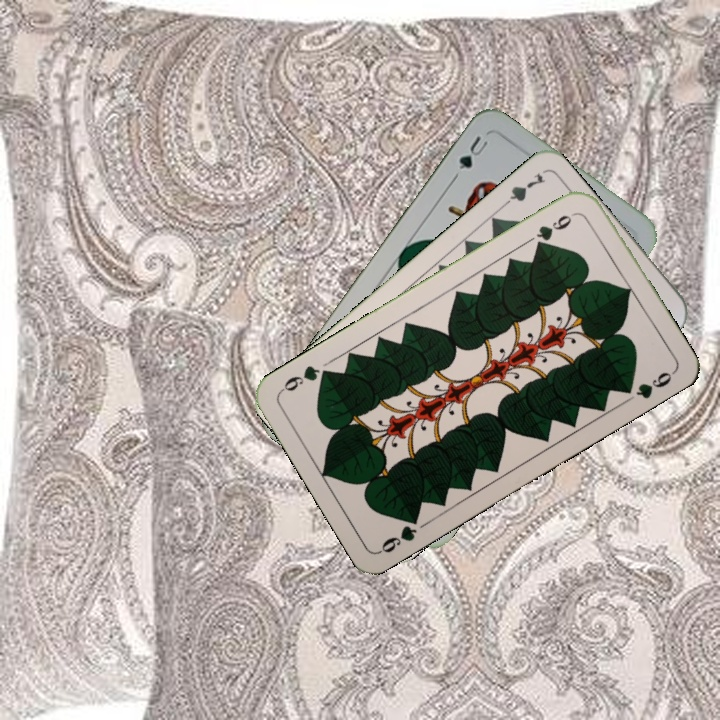G7: (496, 169, 549, 212)
G9: (375, 509, 422, 556), (531, 208, 580, 251)
GU: (449, 131, 492, 181)
